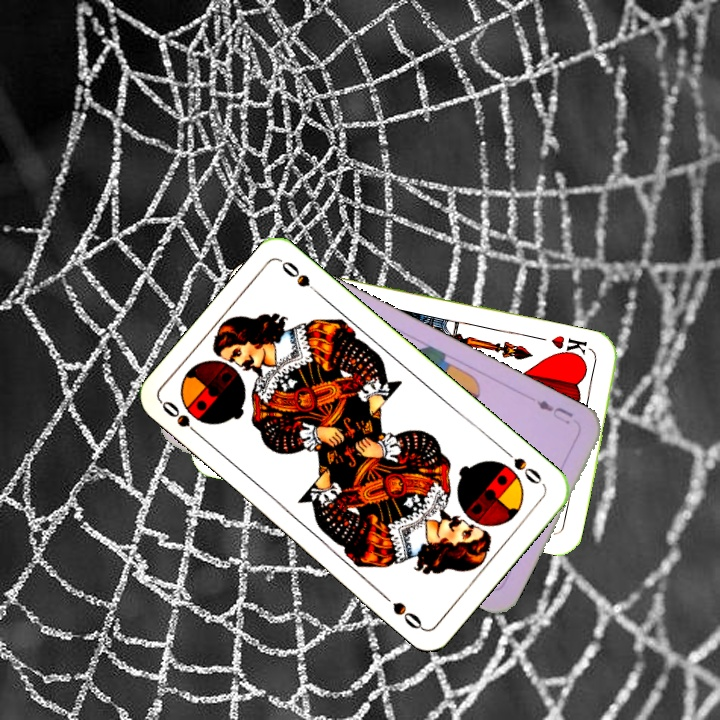EU: (532, 395, 576, 428)
HK: (547, 331, 590, 363)
SO: (157, 396, 206, 442), (499, 445, 545, 487)
